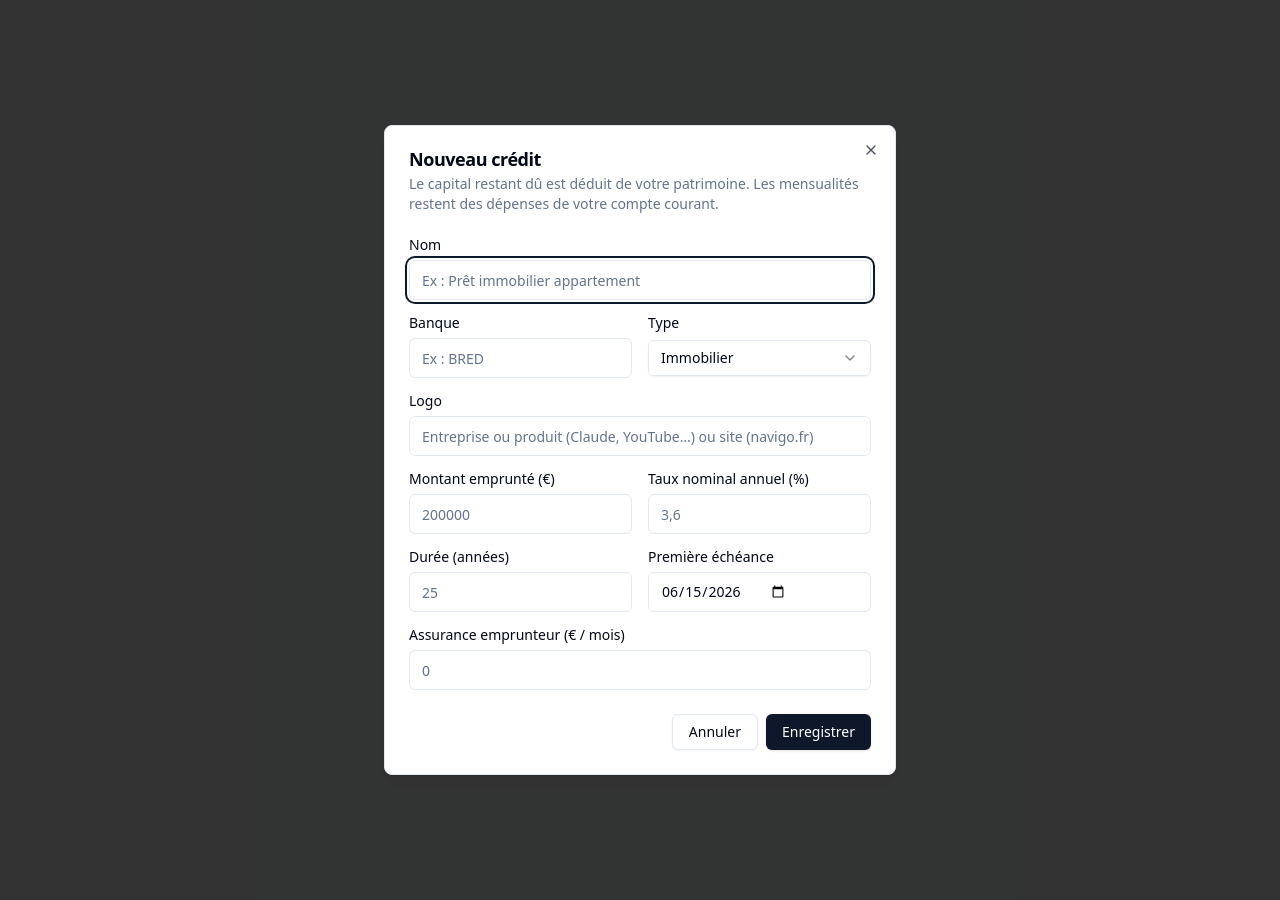
Test case: LoanDialog › refuse une durée de moins d'un mois sans rien envoyer
Type "Prêt auto" into the field labelled "Nom" at (640, 280), box top-left (409, 260), bottom-right (871, 300)
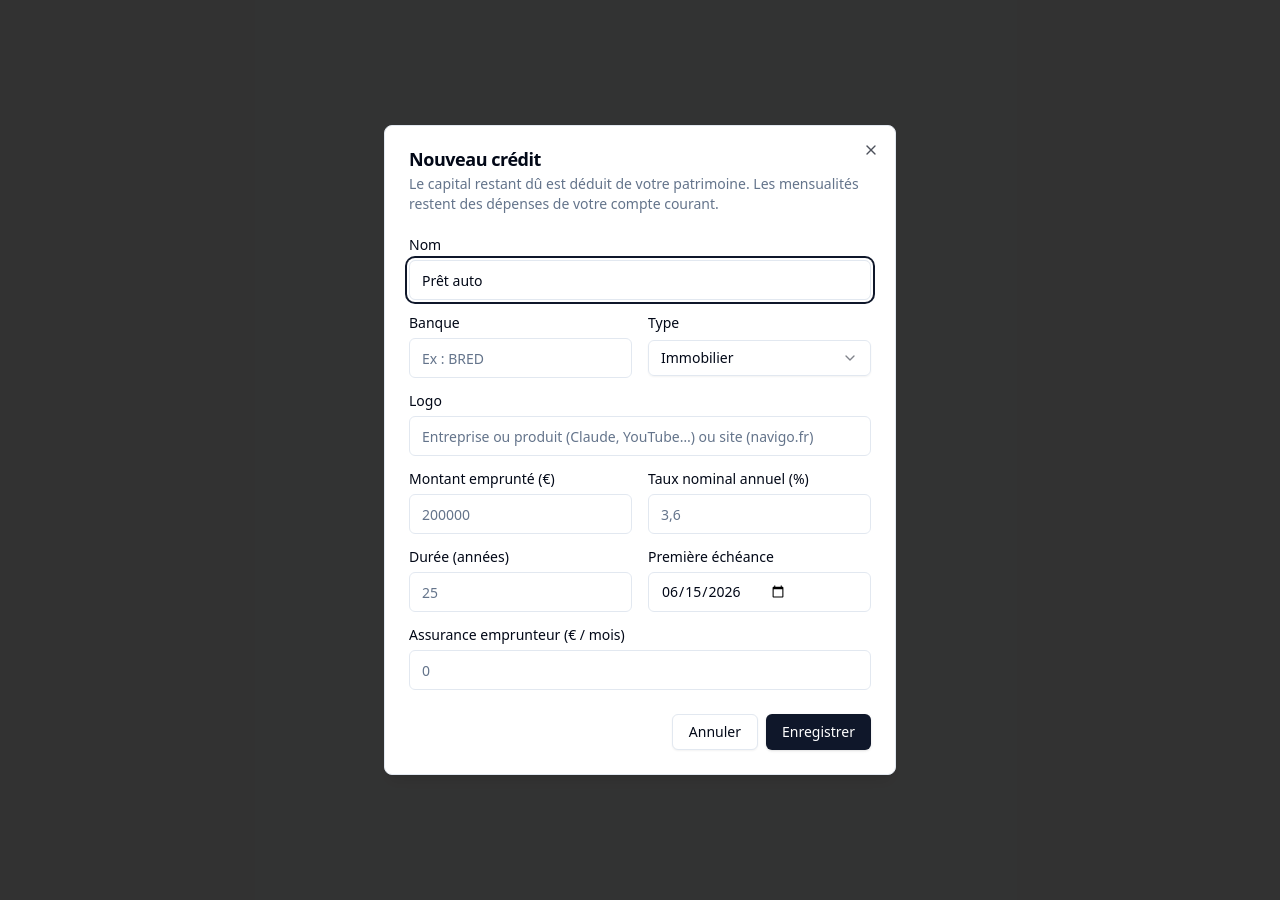
Type "15000" into the field labelled "Montant emprunté (€)" at (520, 514), box top-left (409, 494), bottom-right (632, 534)
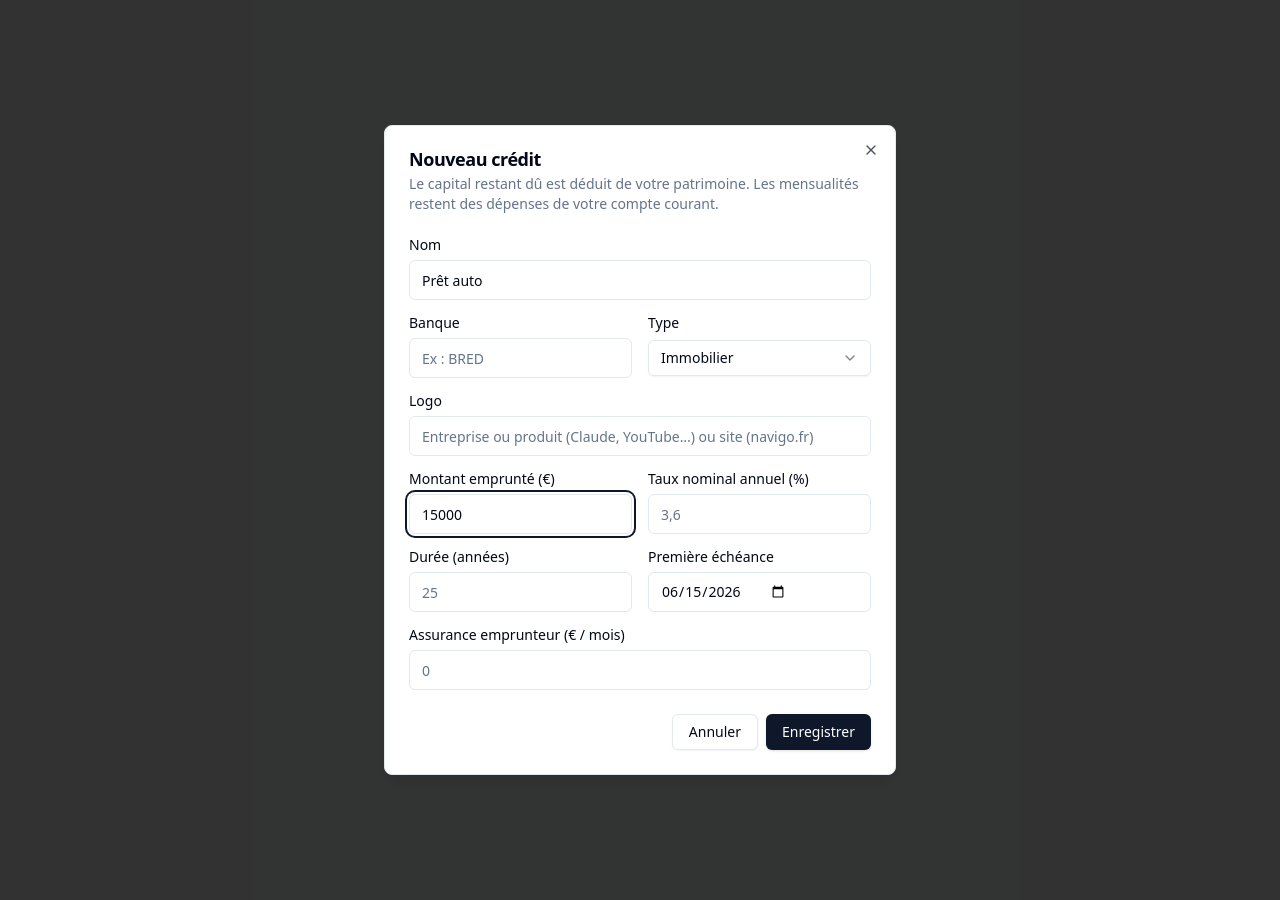
Type "0,02" into the field labelled "Durée (années)" at (520, 592), box top-left (409, 572), bottom-right (632, 612)
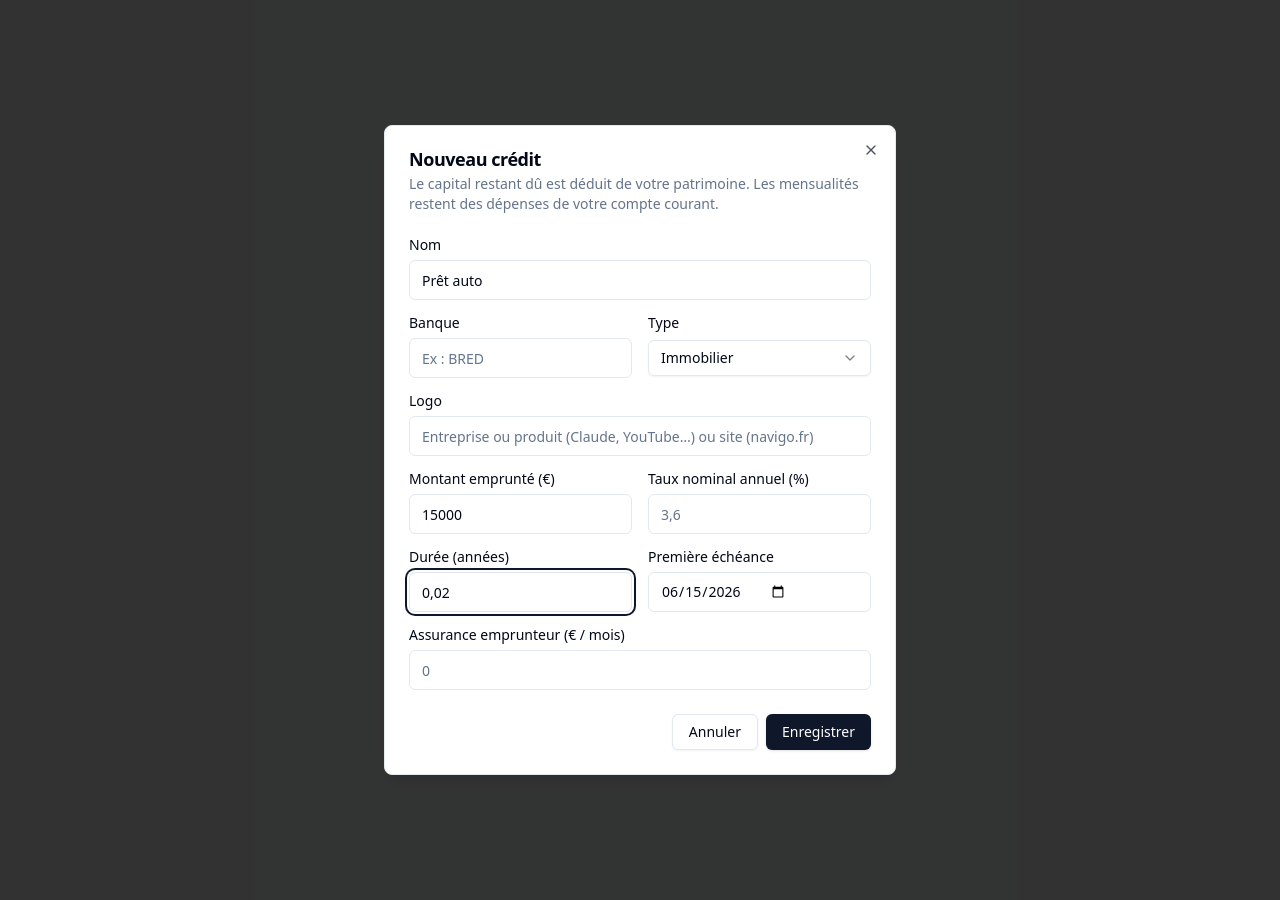
Click the button "Enregistrer" at (818, 732), box top-left (766, 714), bottom-right (871, 750)
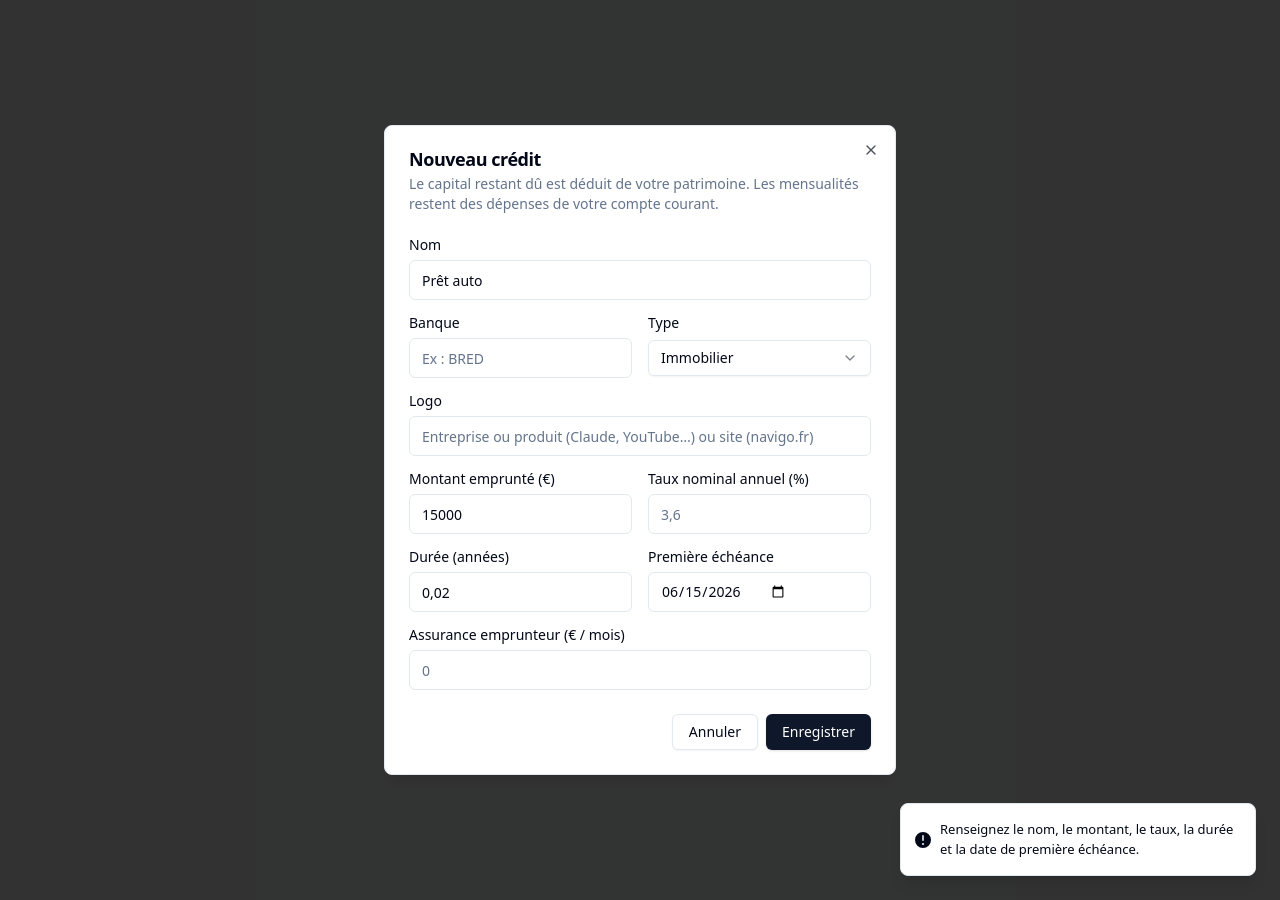
Now the text "Renseignez le nom, le montant, le taux, la durée et la date de première échéance." is shown, box top-left (940, 820), bottom-right (1233, 858)
